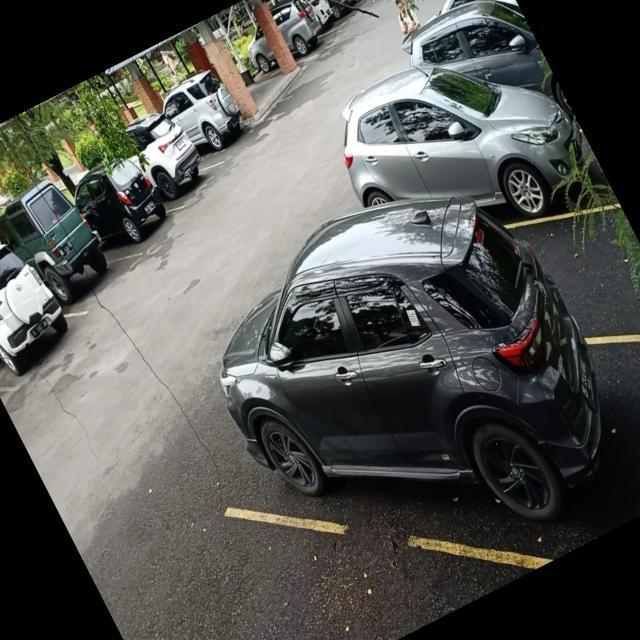occupied: (203, 206, 640, 610), (450, 70, 619, 254), (19, 191, 133, 325), (0, 246, 88, 399), (82, 165, 182, 268), (133, 112, 222, 215)
